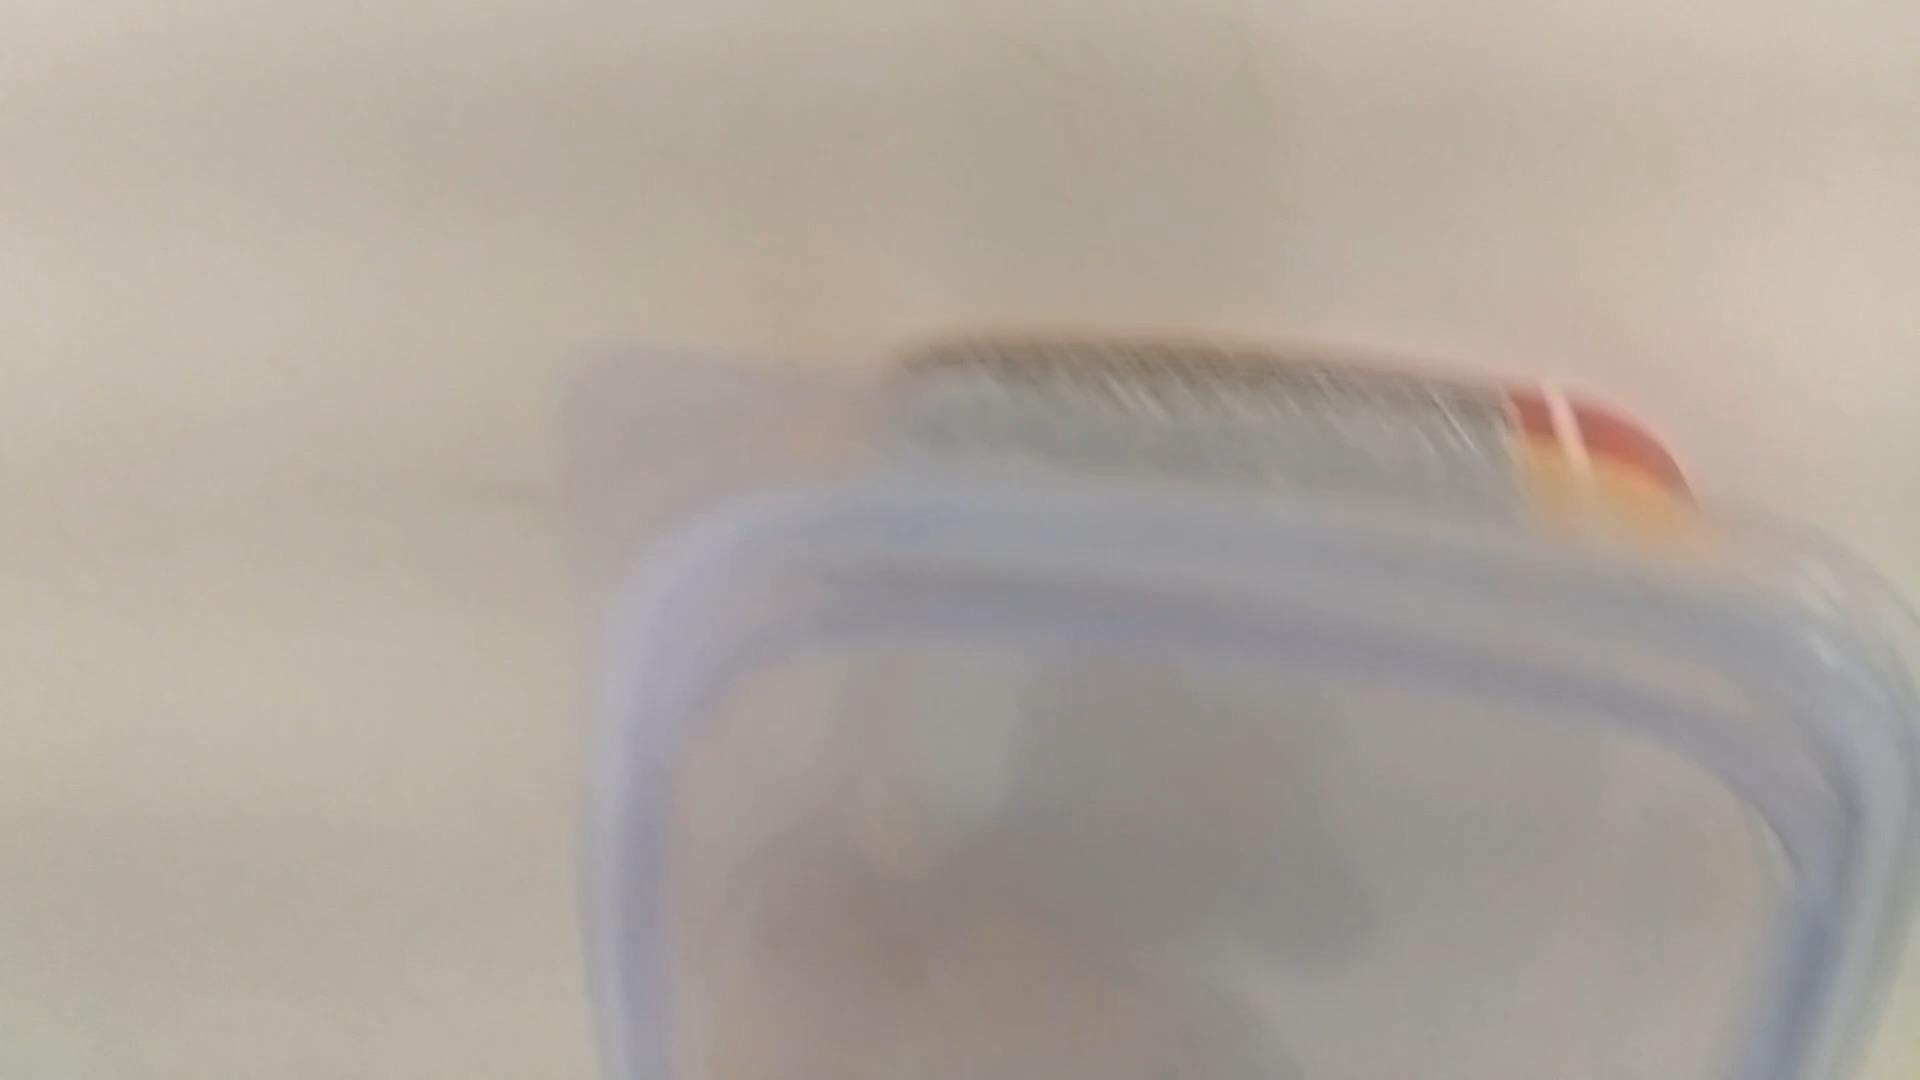butter: (489, 338, 1913, 1080)
